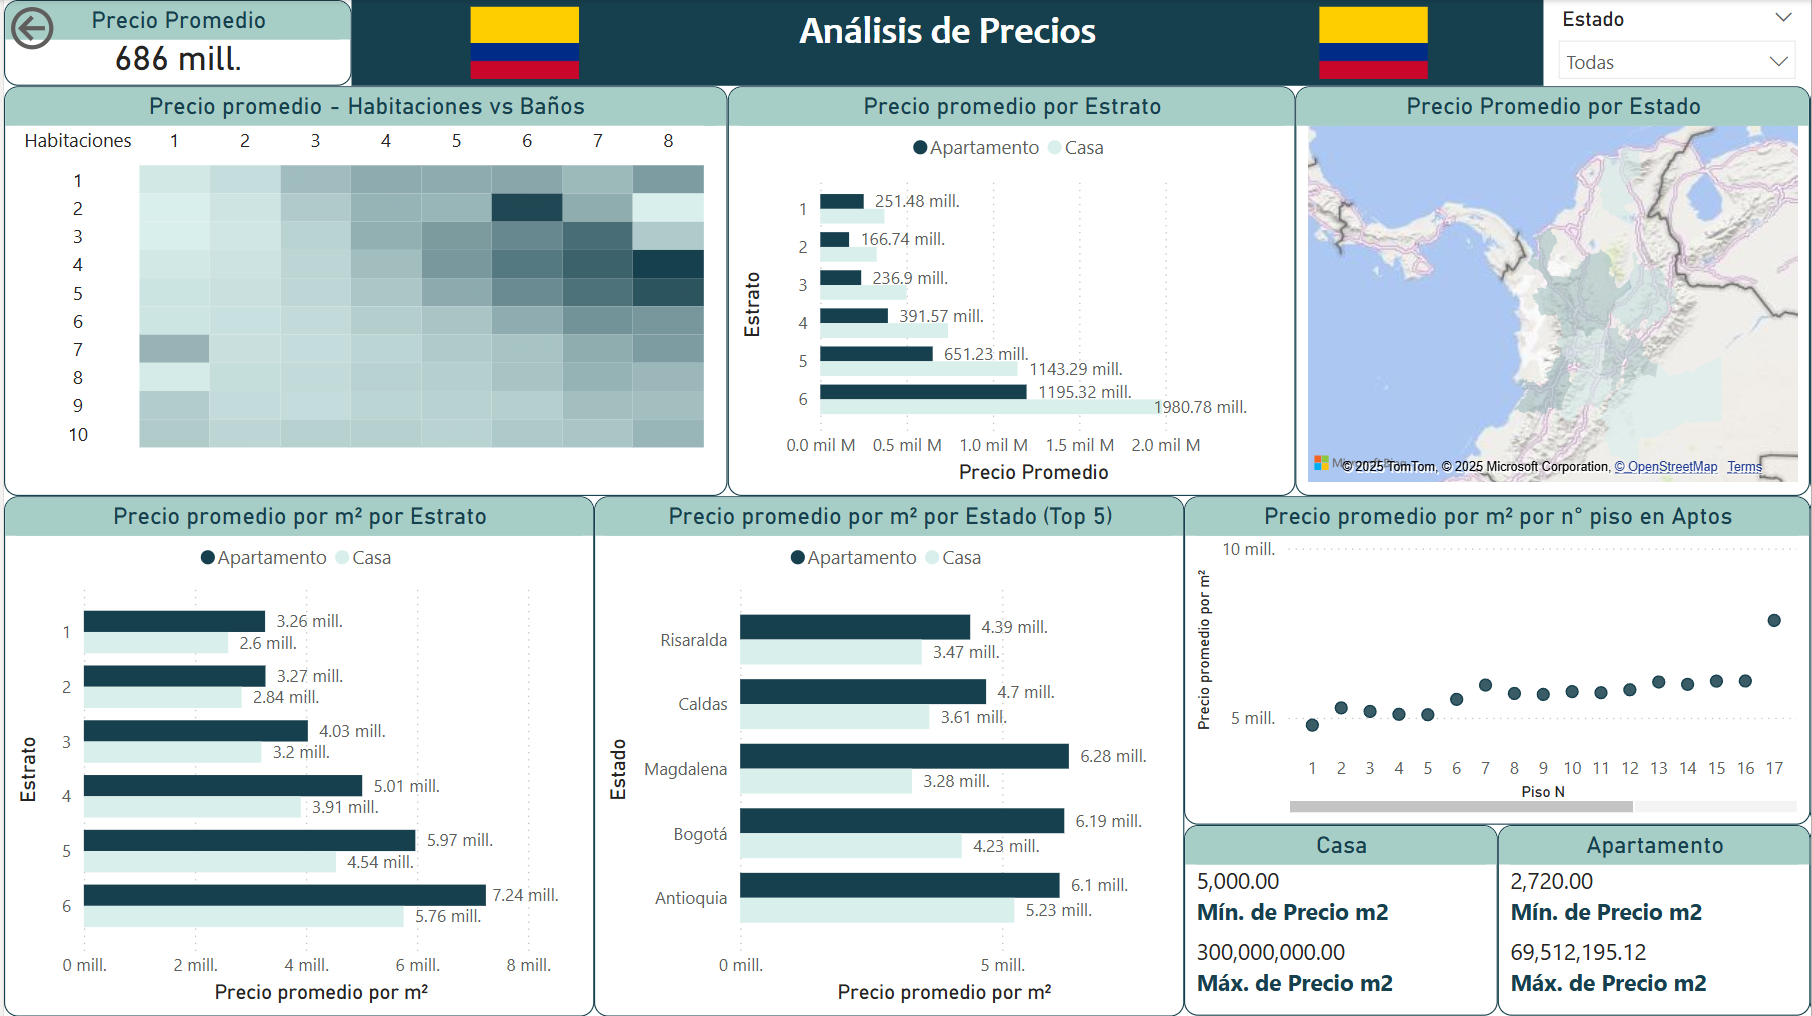

What the dashboard file says about the page in this screenshot:
{"tool":"powerbi","page":{"name":"Análisis de Precios","canvas":[1280,720],"ordinal":1},"visuals":[{"type":"slicer","fields":{"Values":["Props.Estado"]},"box":[1091.5,0,188.7,61.1],"z":0},{"type":"card","title":"Precio Promedio","fields":{"Values":["Avg(Props.Precio)"]},"box":[0,0,246.3,61.1],"z":1000},{"type":"textbox","box":[246.3,0,845.2,61.1],"z":2000},{"type":"clusteredBarChart","title":"Precio promedio por Estrato","fields":{"Category":["Props.Estrato"],"Y":["Avg(Props.Precio)"],"Series":["Props.Tipo Propiedad"]},"box":[513,61.1,402.2,290.6],"z":3000},{"type":"image","box":[901.9,0,137.3,61.1],"z":4000},{"type":"image","box":[300.3,0,137.3,61.1],"z":5000},{"type":"filledMap","title":"Precio Promedio por Estado","fields":{"Category":["Props.Estado"]},"box":[915.2,61.1,365,290.6],"z":6000},{"type":"actionButton","box":[0,0,100,40],"z":7000},{"type":"multiRowCard","title":"Casa","fields":{"Values":["Min(Props.Precio m2)","Max(Props.Precio m2)1"]},"box":[836.3,584.7,222.4,135.5],"z":8000},{"type":"clusteredBarChart","title":"Precio promedio por m² por Estrato","fields":{"Category":["Props.Estrato"],"Y":["Avg(Props.Precio m2)"],"Series":["Props.Tipo Propiedad"]},"box":[0,351.7,418.2,368.6],"z":9000},{"type":"clusteredBarChart","title":"Precio promedio por m² por Estado (Top 5)","fields":{"Category":["Props.Estado"],"Y":["Avg(Props.Precio m2)"],"Series":["Props.Tipo Propiedad"]},"box":[418.2,351.7,418.2,368.6],"z":10000},{"type":"scatterChart","title":"Precio promedio por m² por n° piso en Aptos","fields":{"Series":["Props.Tipo Propiedad"],"Y":["Avg(Props.Precio m2)"],"X":["Props.Piso N"]},"box":[836.3,351.7,443.9,233],"z":11000},{"type":"multiRowCard","title":"Apartamento","fields":{"Values":["Min(Props.Precio m2)","Max(Props.Precio m2)1"]},"box":[1058.7,584.7,221.5,135.5],"z":12000},{"type":"pivotTable","title":"Precio promedio - Habitaciones vs Baños","fields":{"Columns":["Props.Banos"],"Rows":["Props.Habitaciones"],"Values":["Avg(Props.Precio)"]},"box":[0,61.1,513,290.6],"z":13000}]}

Visuals, with their boxes in screenshot pixels (x1, y1, x2, y2), scaled from the page's 1280x720 canvas onto the 1812x1016 screenshot:
slicer - Props.Estado: select_region(1545, 0, 1811, 86)
"Precio Promedio" card: select_region(0, 0, 349, 86)
textbox: select_region(349, 0, 1545, 86)
"Precio promedio por Estrato" clusteredBarChart: select_region(726, 86, 1296, 496)
image: select_region(1277, 0, 1471, 86)
image: select_region(425, 0, 619, 86)
"Precio Promedio por Estado" filledMap: select_region(1296, 86, 1811, 496)
actionButton: select_region(0, 0, 142, 56)
"Casa" multiRowCard: select_region(1184, 825, 1499, 1015)
"Precio promedio por m² por Estrato" clusteredBarChart: select_region(0, 496, 592, 1015)
"Precio promedio por m² por Estado (Top 5)" clusteredBarChart: select_region(592, 496, 1184, 1015)
"Precio promedio por m² por n° piso en Aptos" scatterChart: select_region(1184, 496, 1811, 825)
"Apartamento" multiRowCard: select_region(1499, 825, 1811, 1015)
"Precio promedio - Habitaciones vs Baños" pivotTable: select_region(0, 86, 726, 496)
